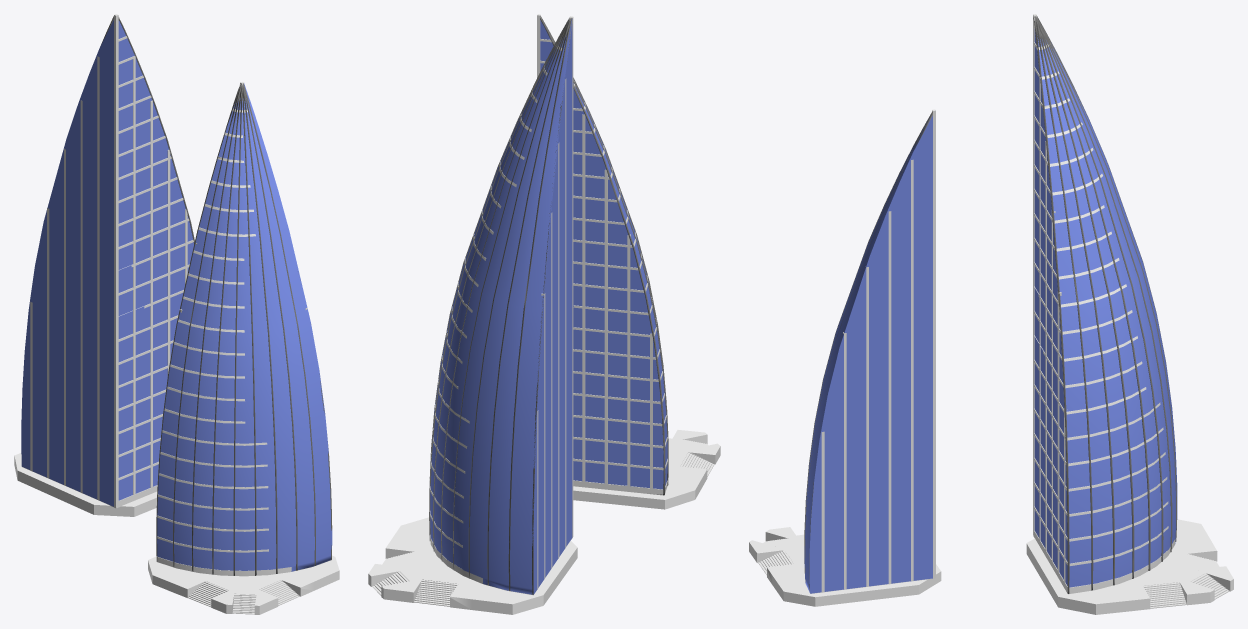
File: Two Horn.FBX
The picture shows the model from 3 angles, left to right: view 1: azimuth 30°, elevation 25°; view 2: azimuth 150°, elevation 25°; view 3: azimuth 270°, elevation 25°; orthographic projection. The views are drawn at different scales.
Visible parts, largest first — view 1: glass001, glass, colonne, montanti001, base001, floors001, floors, base, montanti; view 2: glass, glass001, base, montanti, colonne001, colonne, base001, floors001, montanti001, floors; view 3: glass, glass001, montanti, base, floors, colonne001, base001, colonne, montanti001.
Part boxes in pixels (<box>): glass001: <box>157,83,332,571</box>; glass: <box>21,20,193,506</box>; colonne: <box>30,14,187,507</box>; montanti001: <box>156,83,332,575</box>; base001: <box>148,555,339,614</box>; floors001: <box>157,84,331,576</box>; floors: <box>22,16,193,508</box>; base: <box>14,453,157,516</box>; montanti: <box>100,16,194,243</box>; glass: <box>430,19,572,594</box>; glass001: <box>540,20,667,489</box>; base: <box>368,517,577,614</box>; montanti: <box>429,18,572,594</box>; colonne001: <box>537,14,652,494</box>; colonne: <box>537,16,573,589</box>; base001: <box>573,430,720,509</box>; floors001: <box>540,17,667,495</box>; montanti001: <box>540,16,668,495</box>; floors: <box>429,44,572,595</box>; glass: <box>1034,29,1177,587</box>; glass001: <box>804,115,932,593</box>; montanti: <box>1033,16,1176,593</box>; base: <box>1026,519,1233,614</box>; floors: <box>1033,17,1175,594</box>; colonne001: <box>821,109,935,592</box>; base001: <box>749,527,941,606</box>; colonne: <box>1033,14,1135,587</box>; montanti001: <box>804,111,932,590</box>.
Size of the model in its own units: 63.17 by 176 by 145.
